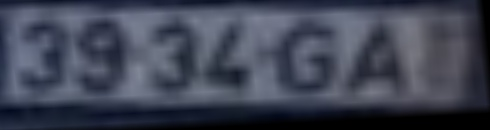3: (18, 22, 78, 101), (150, 26, 205, 103)
4: (205, 27, 261, 106)
9: (84, 23, 133, 106)
A: (345, 26, 416, 100)
G: (278, 20, 343, 102)
